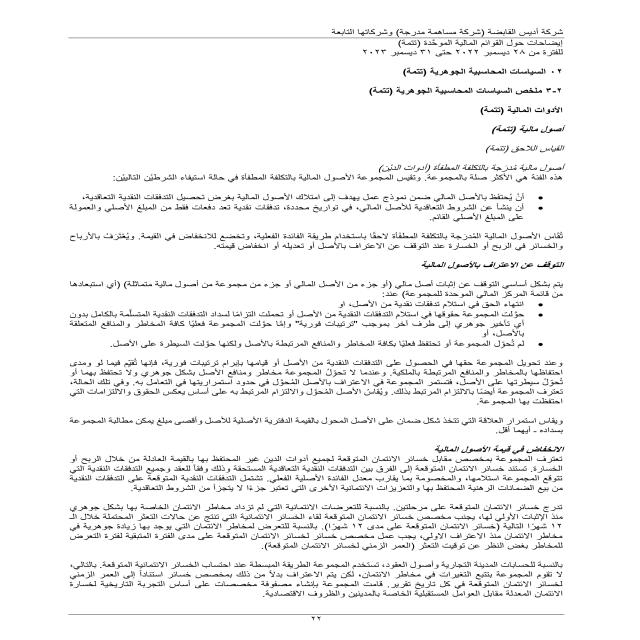notes: (392, 39, 568, 48)
text: (31, 79, 580, 603)
